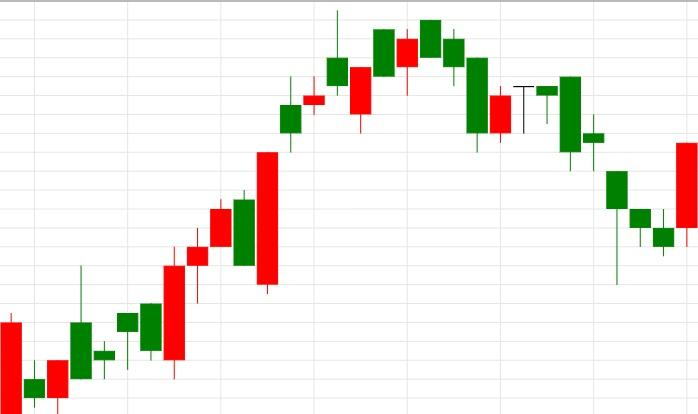hammer_rise: (559, 75, 629, 285)
